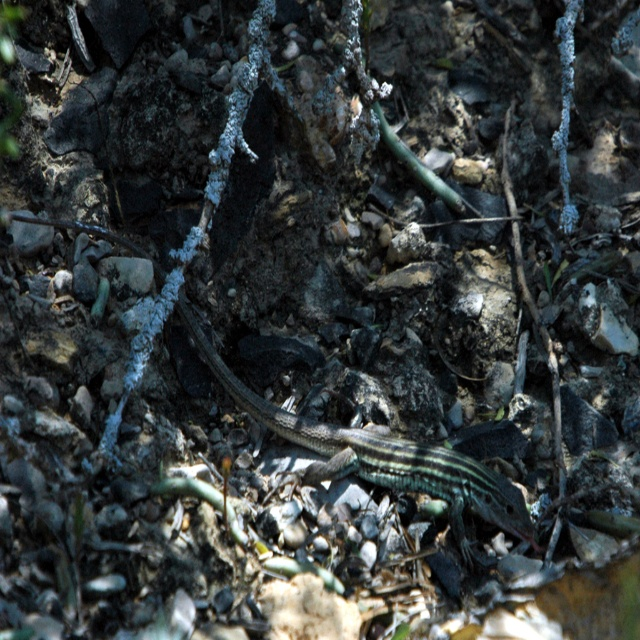Lizard: (148, 276, 546, 598)
